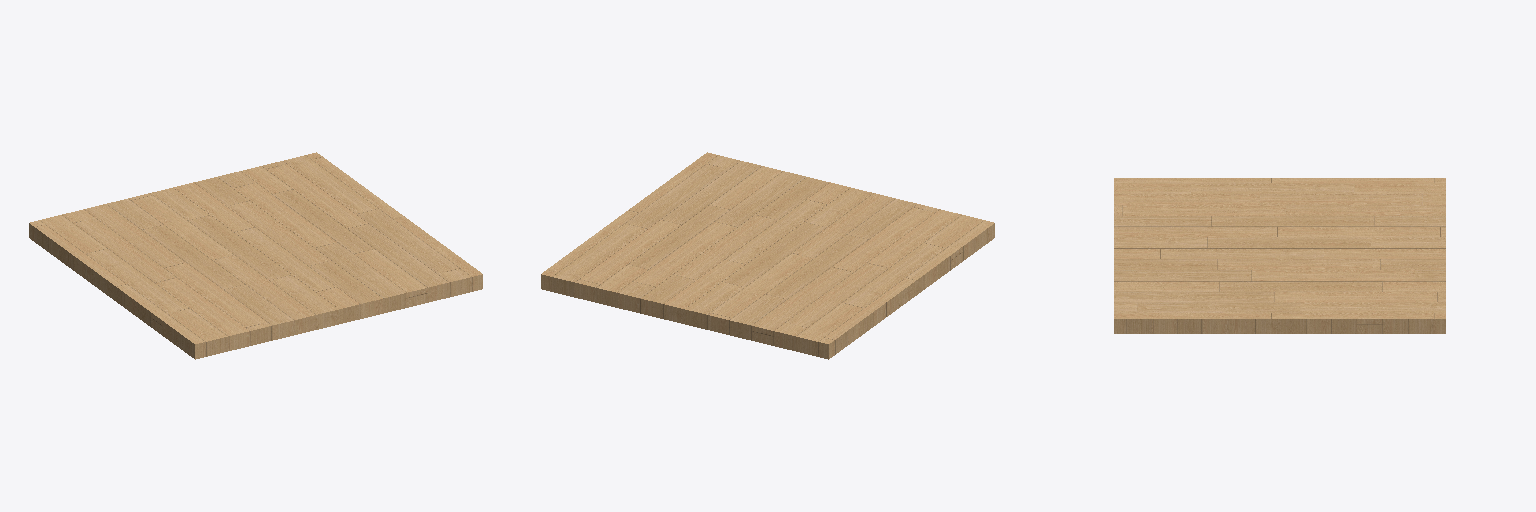
3 renders of one model, left to right at view 1: azimuth 30°, elevation 25°; view 2: azimuth 150°, elevation 25°; view 3: azimuth 270°, elevation 25°, orthographic.
Visible parts, largest first — view 1: Flooring; view 2: Flooring; view 3: Flooring.
Boxes of the visible parts, x1,y1,x2,y2 form: Flooring: [29, 152, 482, 359]; Flooring: [541, 152, 994, 359]; Flooring: [1114, 178, 1445, 333].
Bounding box in the file's own units: 1 × 0.05 × 1.
1 materials, 1 textured.